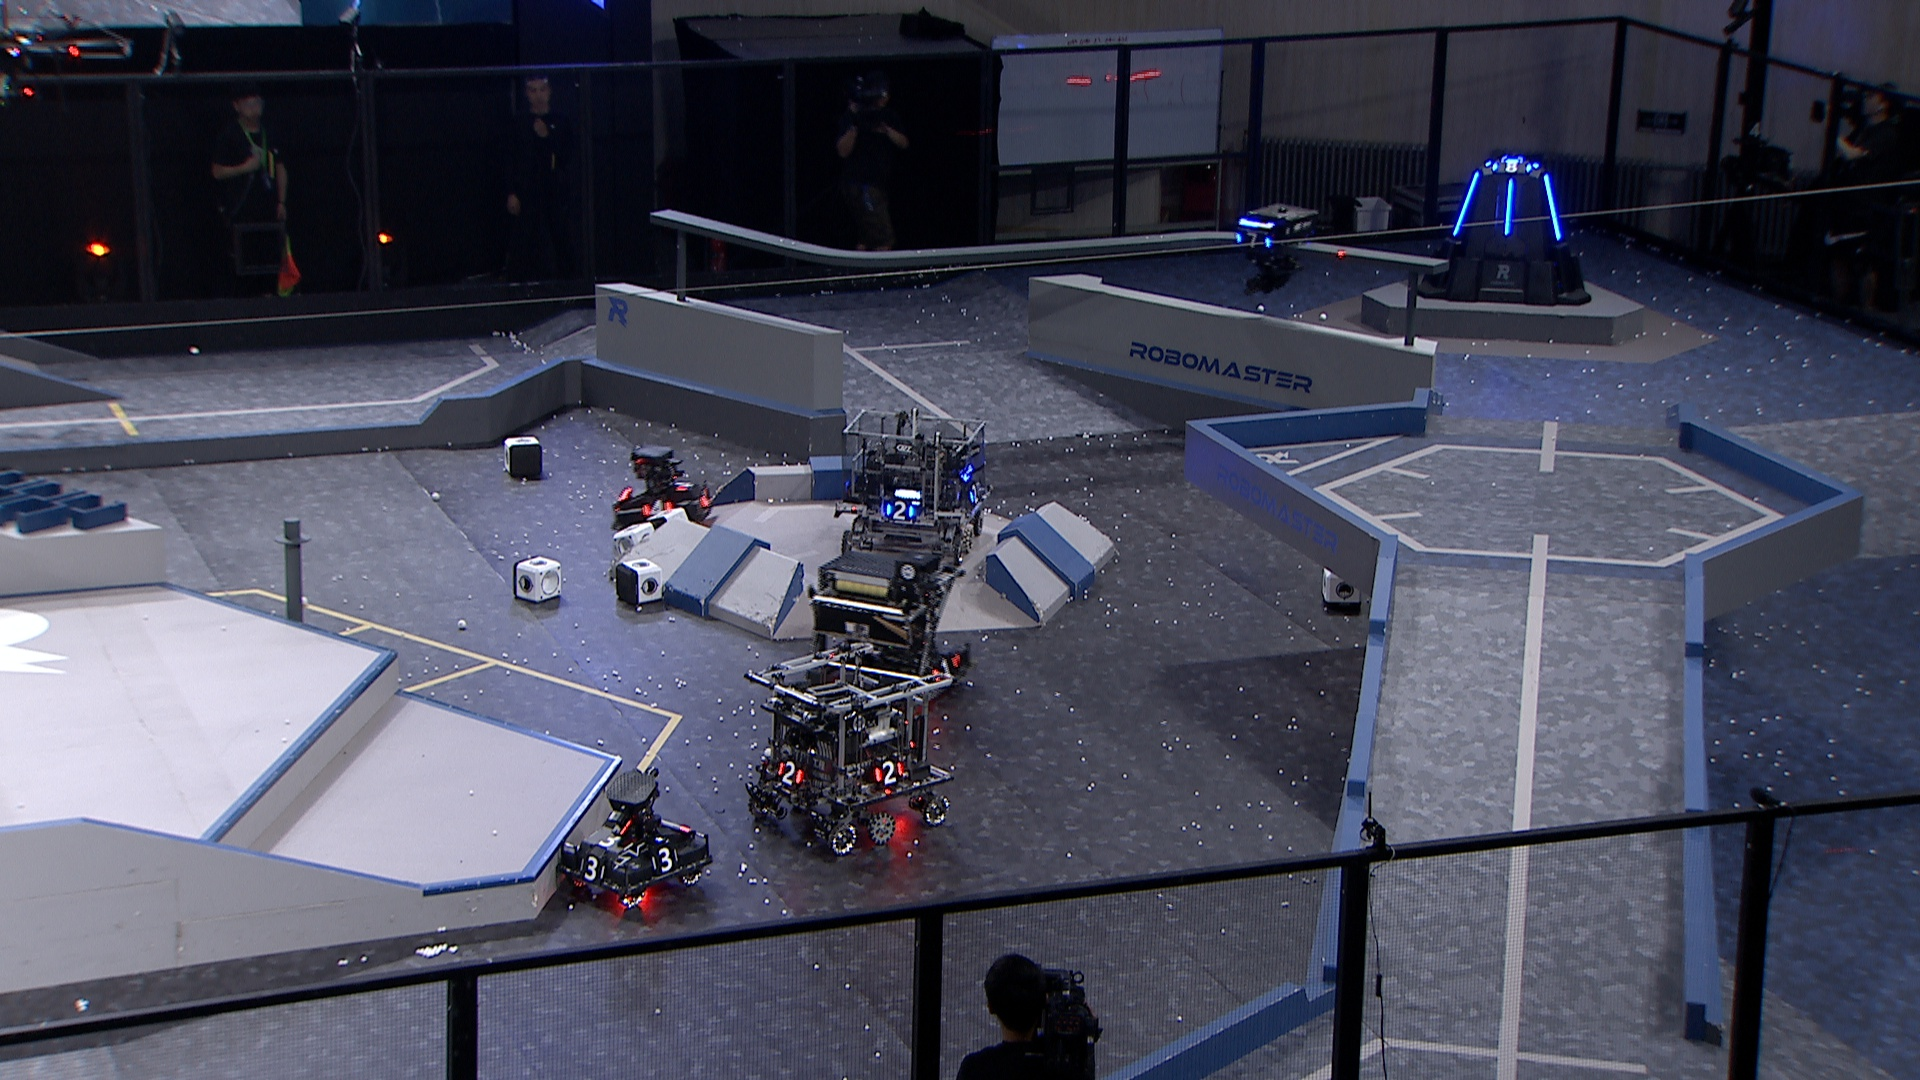armor: (1451, 169, 1484, 237), (1542, 173, 1567, 243), (589, 829, 636, 855), (1233, 229, 1276, 252), (1501, 177, 1515, 237), (873, 760, 905, 787), (882, 498, 918, 522), (650, 845, 679, 874), (578, 855, 607, 882), (778, 760, 804, 789), (1489, 160, 1534, 175), (927, 655, 959, 676), (637, 500, 673, 517), (670, 477, 695, 495), (965, 484, 982, 508), (698, 489, 713, 512)
base: (1418, 157, 1594, 310)
car: (742, 645, 951, 860), (803, 543, 972, 703), (831, 409, 992, 564), (560, 766, 712, 913), (609, 444, 713, 531)
watcher: (1232, 200, 1315, 295)
